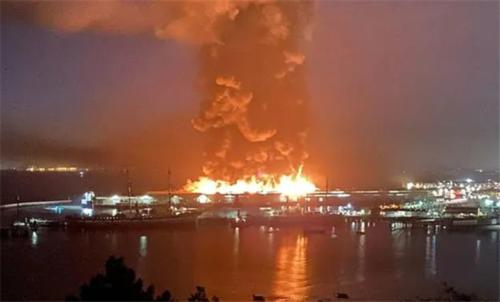fire: (172, 168, 319, 211)
smoke: (171, 5, 324, 159)
